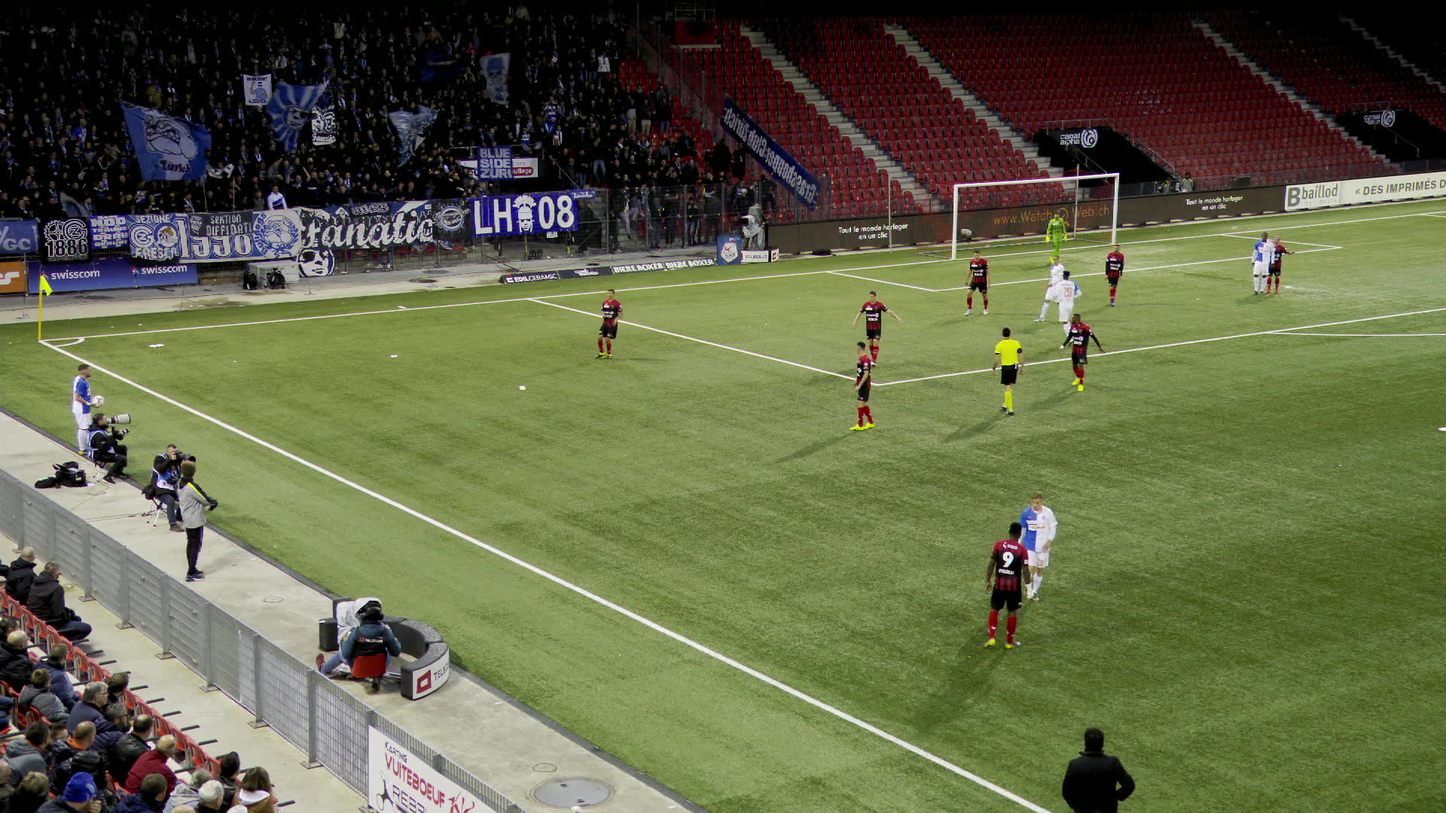ball: (91, 394, 105, 407)
player: (986, 521, 1030, 651), (1015, 493, 1057, 604), (853, 291, 905, 361), (69, 363, 98, 454), (1063, 312, 1094, 390), (848, 341, 874, 431), (1263, 236, 1298, 294), (596, 286, 623, 361), (963, 249, 991, 316), (1247, 232, 1274, 295), (1101, 244, 1125, 306), (1042, 254, 1064, 321), (1056, 270, 1078, 331), (1045, 210, 1066, 263)
referee: (993, 327, 1025, 416)
